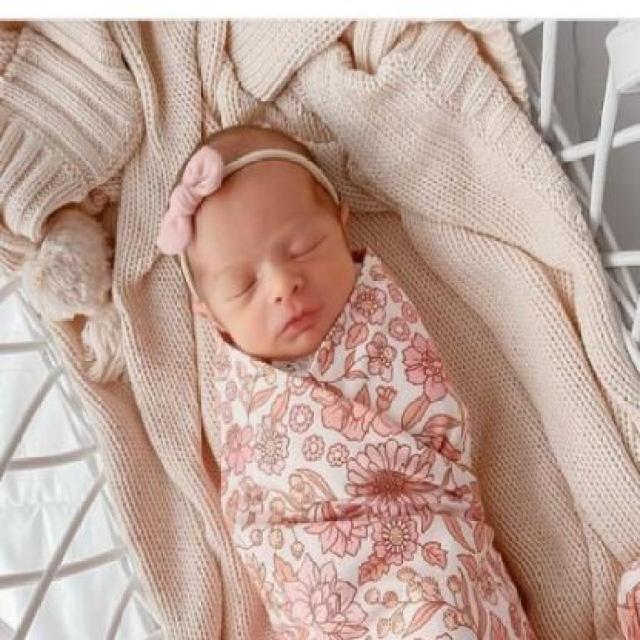baby: (154, 121, 534, 637)
